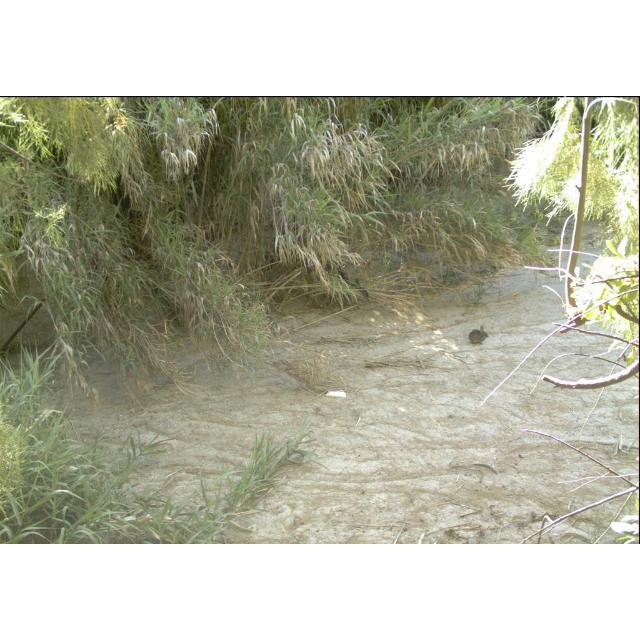animals: (467, 323, 493, 347)
